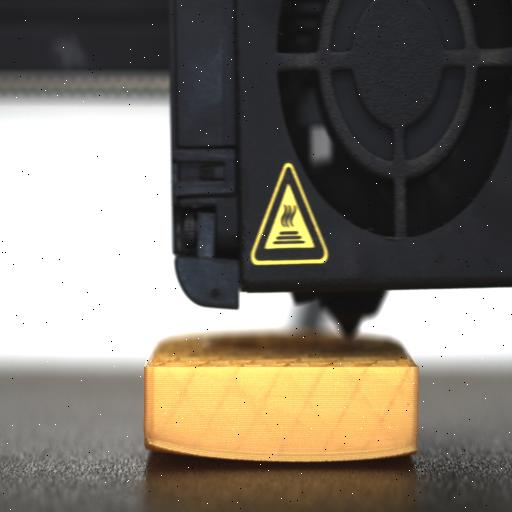warp: (379, 440, 420, 460), (144, 436, 174, 454)
